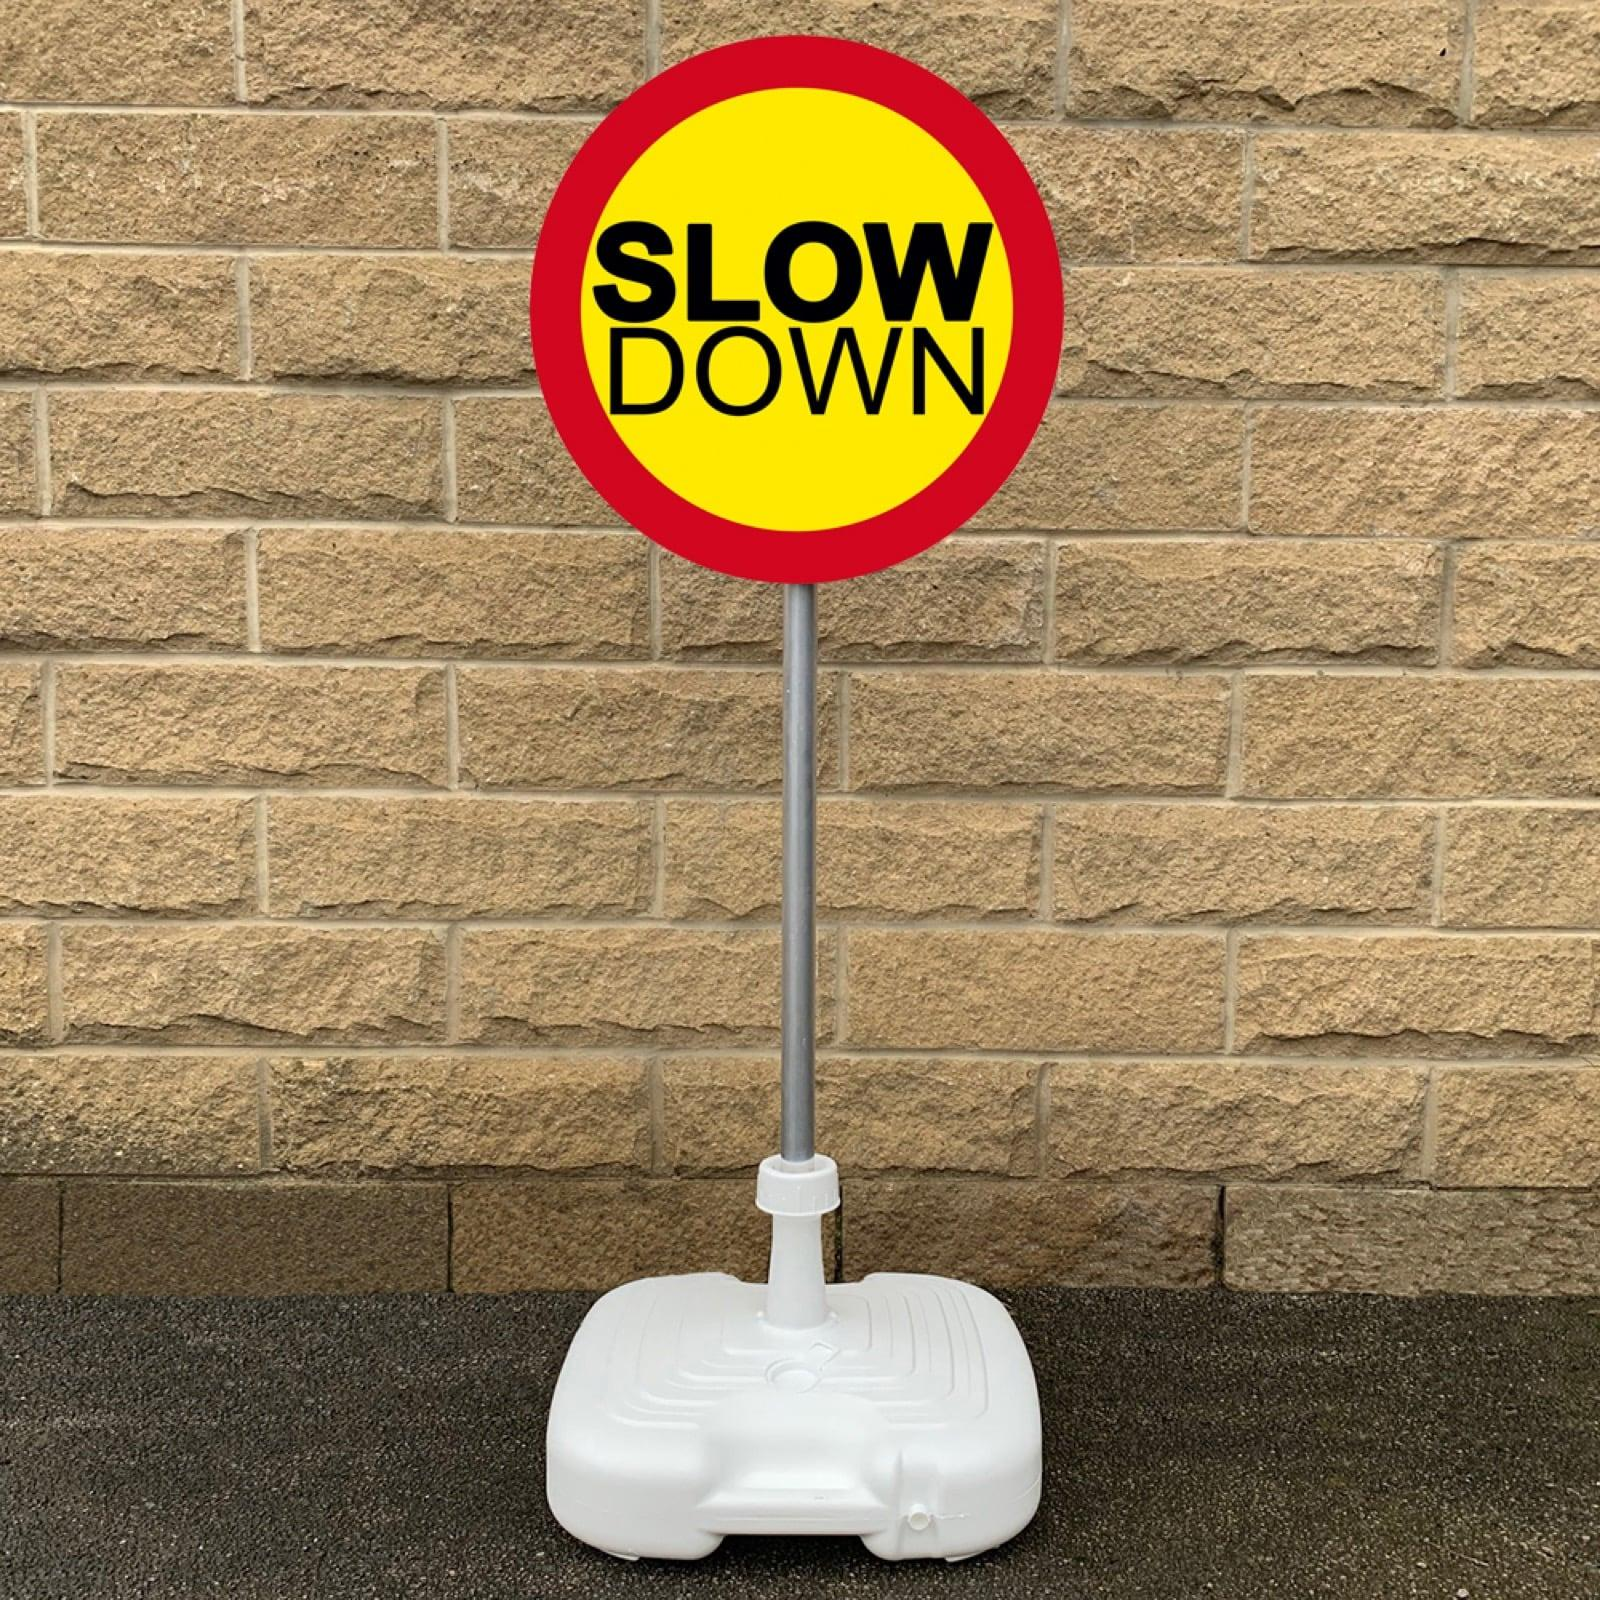traffic sign: (421, 26, 1127, 1574)
